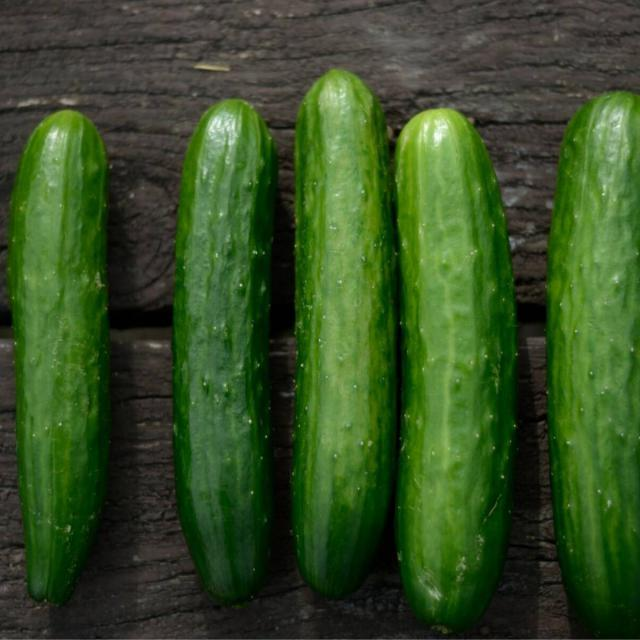cucumber: (400, 105, 523, 639), (288, 66, 396, 606), (167, 97, 279, 612), (539, 86, 639, 639), (8, 109, 112, 606)
